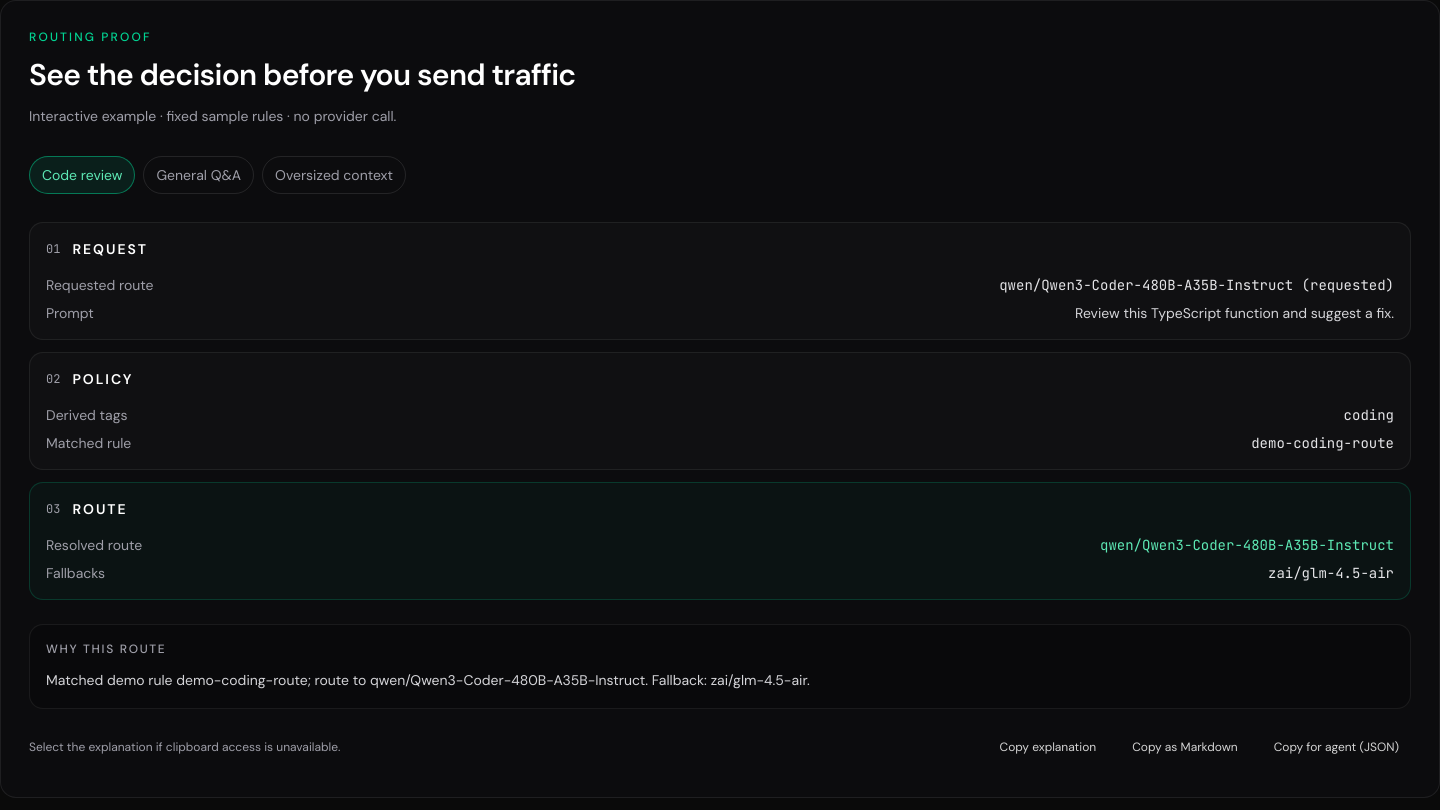
routing decision trace › uses the trace-specific copy failure label and AA route marker
The width and height of the screenshot is (1440, 810).
Click the button "Copy explanation": (1048, 746) [988,724,1108,768]
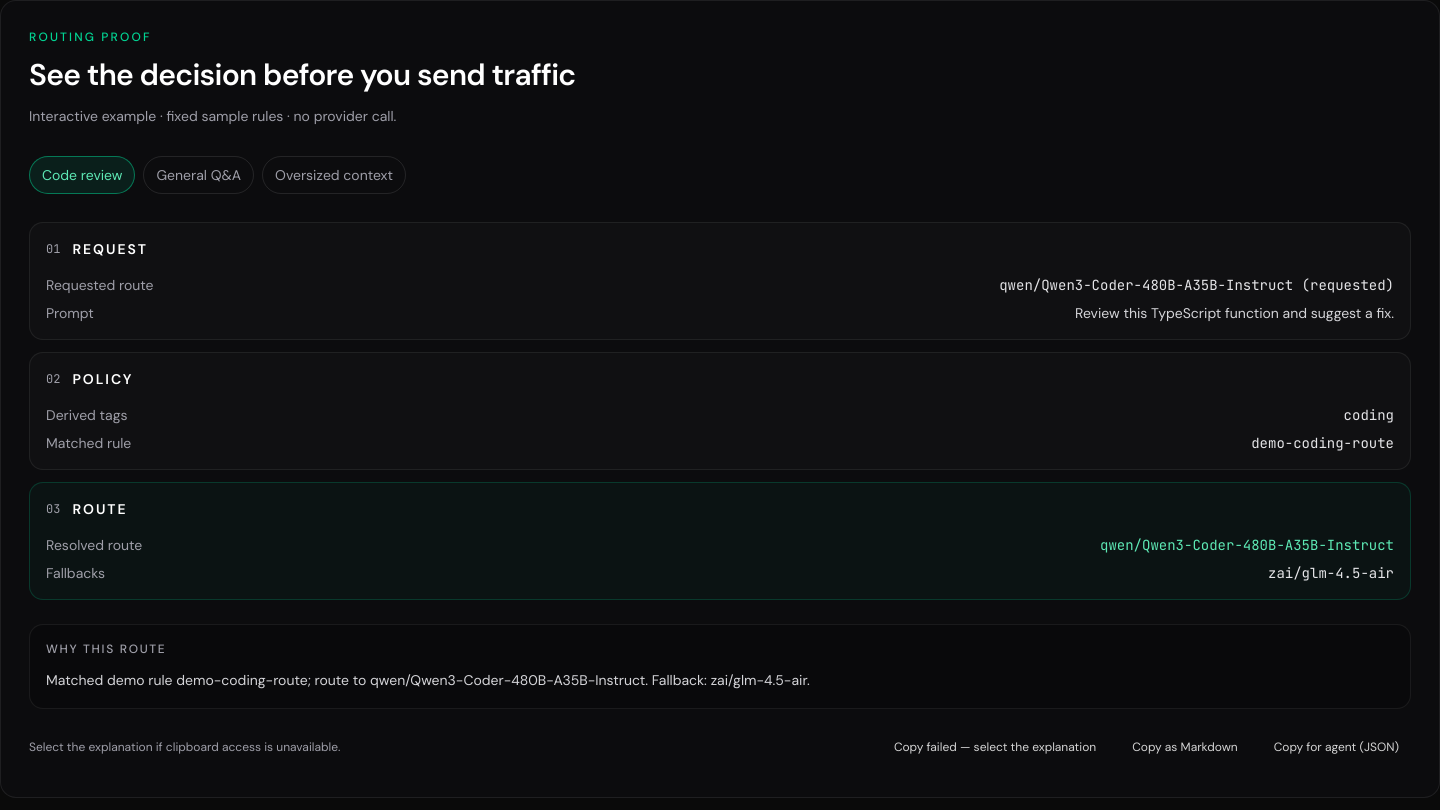
Expected: the button "Copy failed — select the explanation" is shown, [882,724,1108,768]
